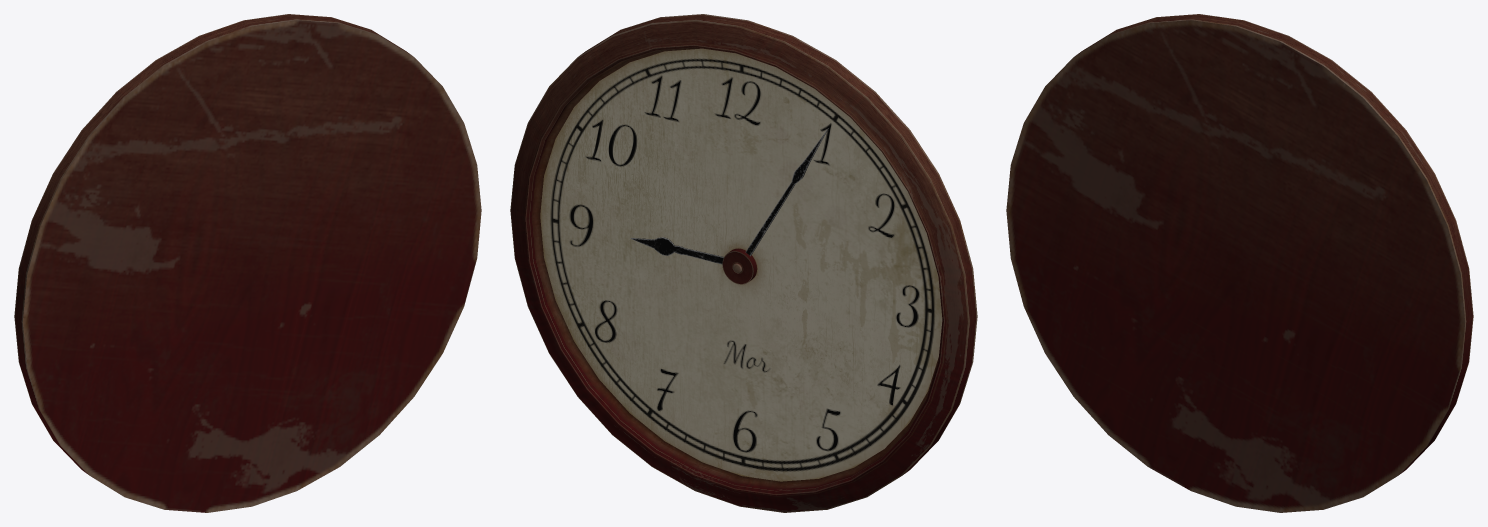
Rendered from Saat.fbx.
The picture shows the model from 3 angles, left to right: view 1: azimuth 30°, elevation 25°; view 2: azimuth 150°, elevation 25°; view 3: azimuth 330°, elevation 25°; orthographic projection.
Parts seen in each view (by area): view 1: Saat; view 2: Saat, Yelkovan, Akrep; view 3: Saat.
Boxes of the visible parts, <box> form: Saat: <box>14,14,481,512</box>; Saat: <box>510,14,977,512</box>; Yelkovan: <box>745,128,828,256</box>; Akrep: <box>630,237,723,264</box>; Saat: <box>1006,14,1473,512</box>.
Bounding box in the file's own units: 84.47 × 84.47 × 4.26.
